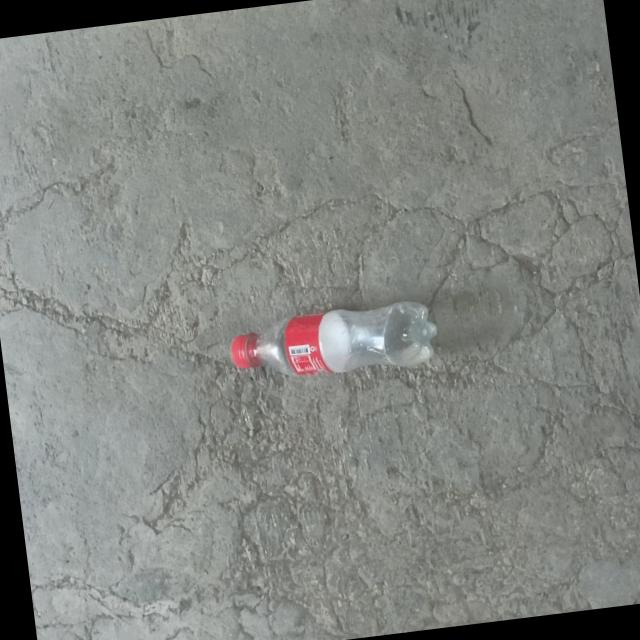Bottle: (231, 301, 437, 375)
